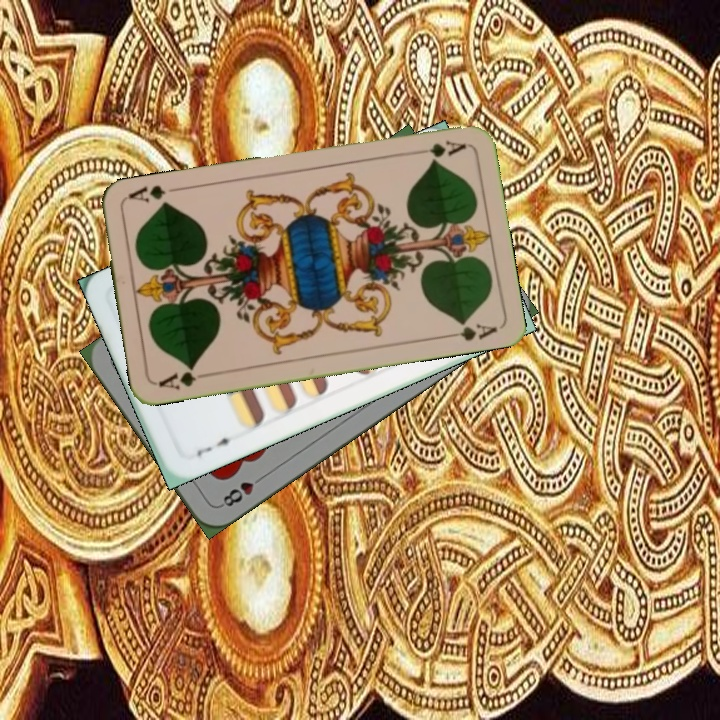E7: (192, 433, 239, 461)
GA: (154, 362, 213, 392), (410, 136, 469, 162)
H8: (216, 471, 268, 510)
